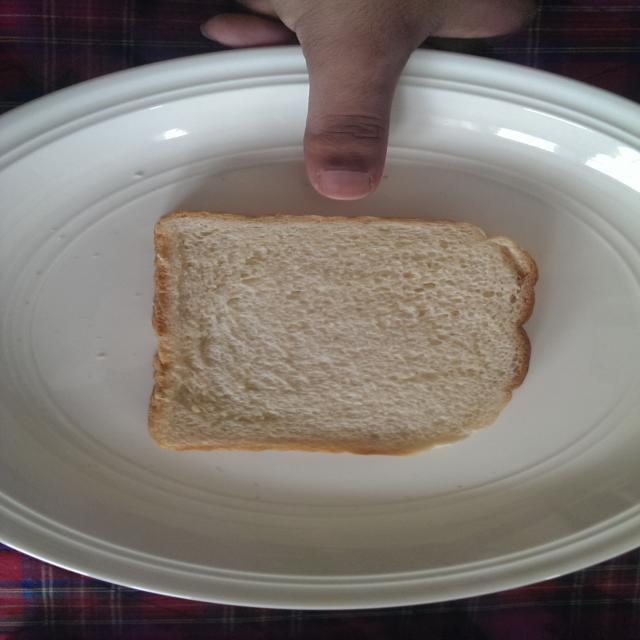Bread: (136, 203, 548, 470)
Finger: (292, 93, 407, 206)
